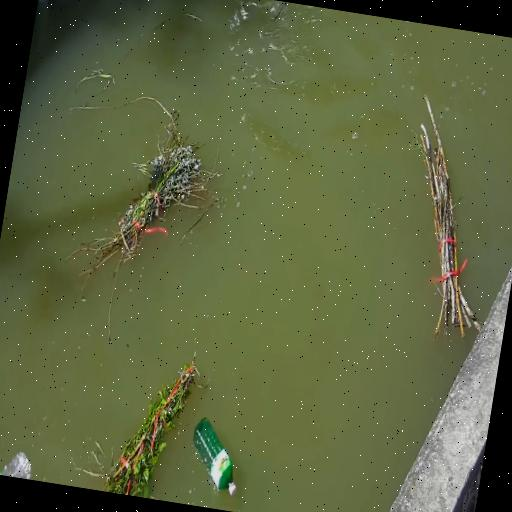plastic: (183, 411, 252, 494), (0, 440, 40, 480)
twig: (380, 94, 512, 340), (98, 125, 208, 293), (97, 342, 202, 503)
